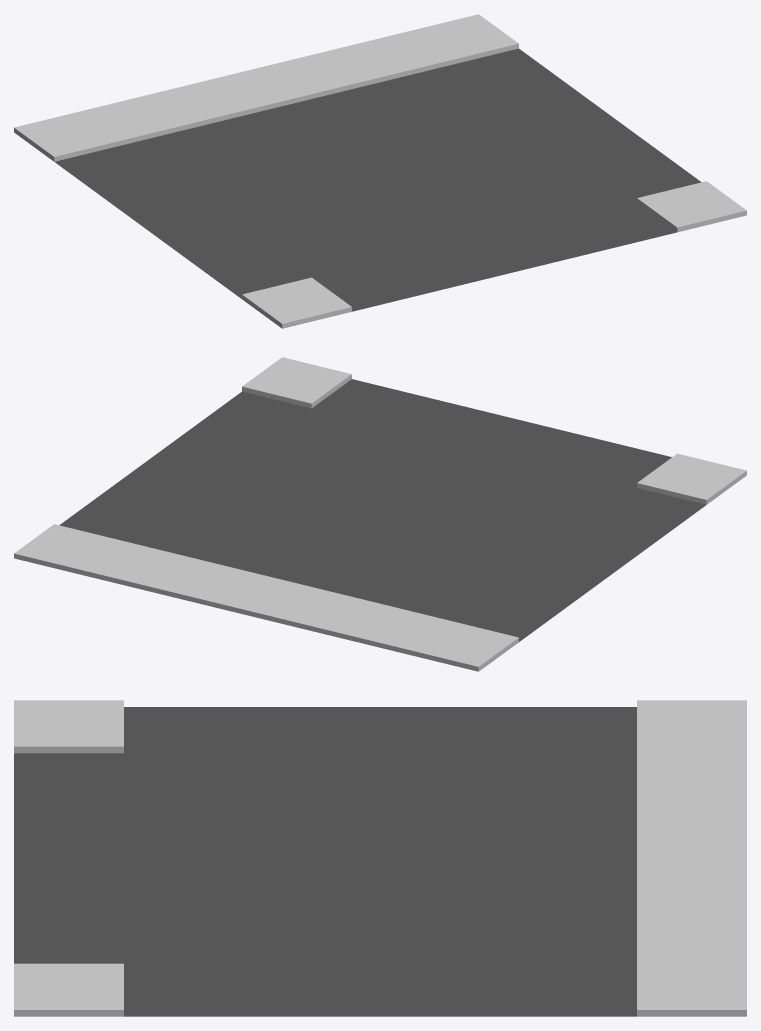
File: road-t-intersection-02.glb
The picture shows the model from 3 angles, top to bottom: view 1: azimuth 30°, elevation 25°; view 2: azimuth 150°, elevation 25°; view 3: azimuth 270°, elevation 25°; orthographic projection. The views are drawn at different scales.
Visible parts, largest first — view 1: model; view 2: model; view 3: model.
Part boxes in pixels (x1=…): model: x1=14, y1=14, x2=746, y2=328; model: x1=14, y1=357, x2=746, y2=671; model: x1=14, y1=700, x2=746, y2=1016.
Bounding box in the file's own units: 20 × 0.2 × 20.
Materials: 1 (1 with a texture image).
